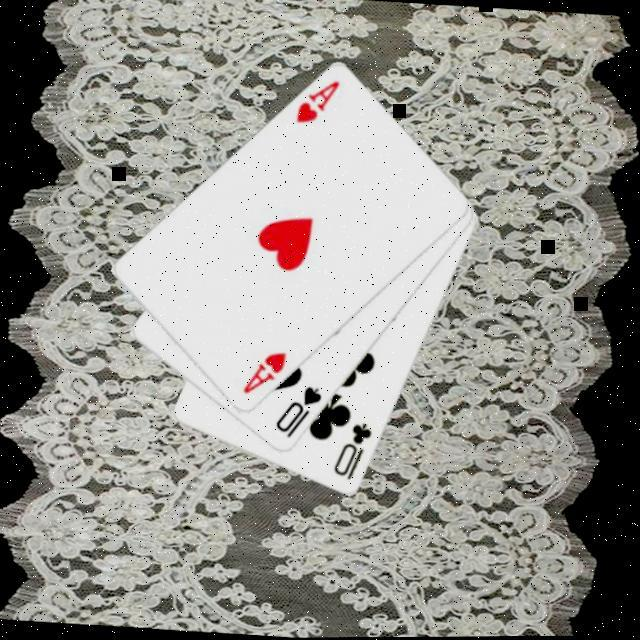10C: (331, 417, 376, 484)
10S: (272, 380, 326, 443)
AH: (293, 74, 344, 128), (240, 345, 291, 398)
